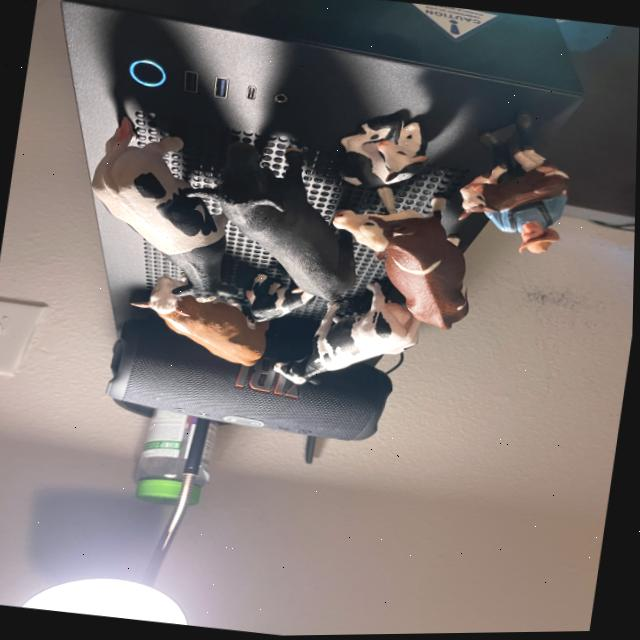cow: (70, 99, 278, 326), (186, 112, 400, 313), (329, 155, 513, 343), (262, 272, 429, 413), (128, 267, 278, 373), (323, 111, 432, 199), (455, 163, 571, 220), (240, 272, 318, 333)
person: (487, 189, 581, 267)
